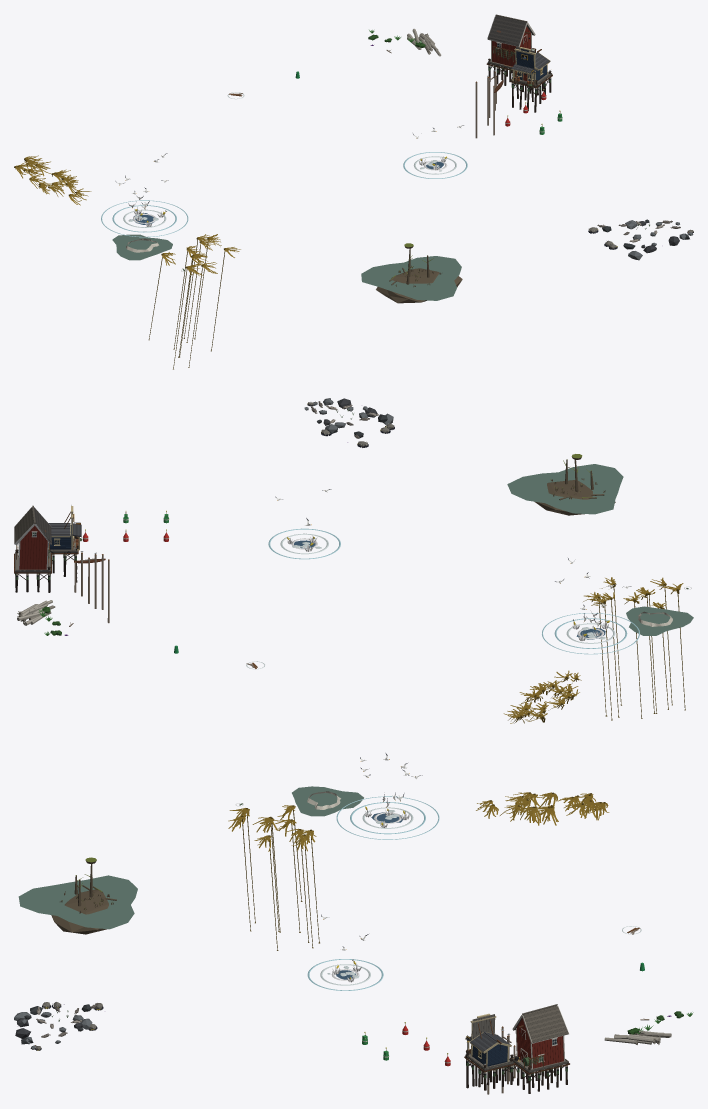
File: chunk_-1_1.glb
3 views of the same model, one above another, from view 1: azimuth 30°, elevation 25°; view 2: azimuth 150°, elevation 25°; view 3: azimuth 270°, elevation 25° (orthographic). The views are drawn at different scales.
Visible parts, largest first — view 1: chunk_-1_1; view 2: chunk_-1_1; view 3: chunk_-1_1.
Boxes of the visible parts, box(x1,y1,x2,y2) form: chunk_-1_1: box(14, 14, 693, 369); chunk_-1_1: box(14, 398, 693, 723); chunk_-1_1: box(14, 753, 693, 1094).
Size of the model in its own units: 131 by 40.63 by 128.
